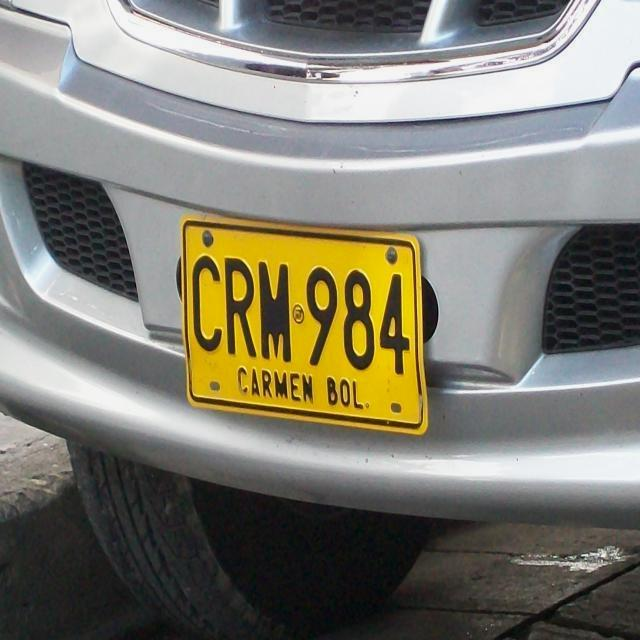placa: (176, 211, 430, 438)
